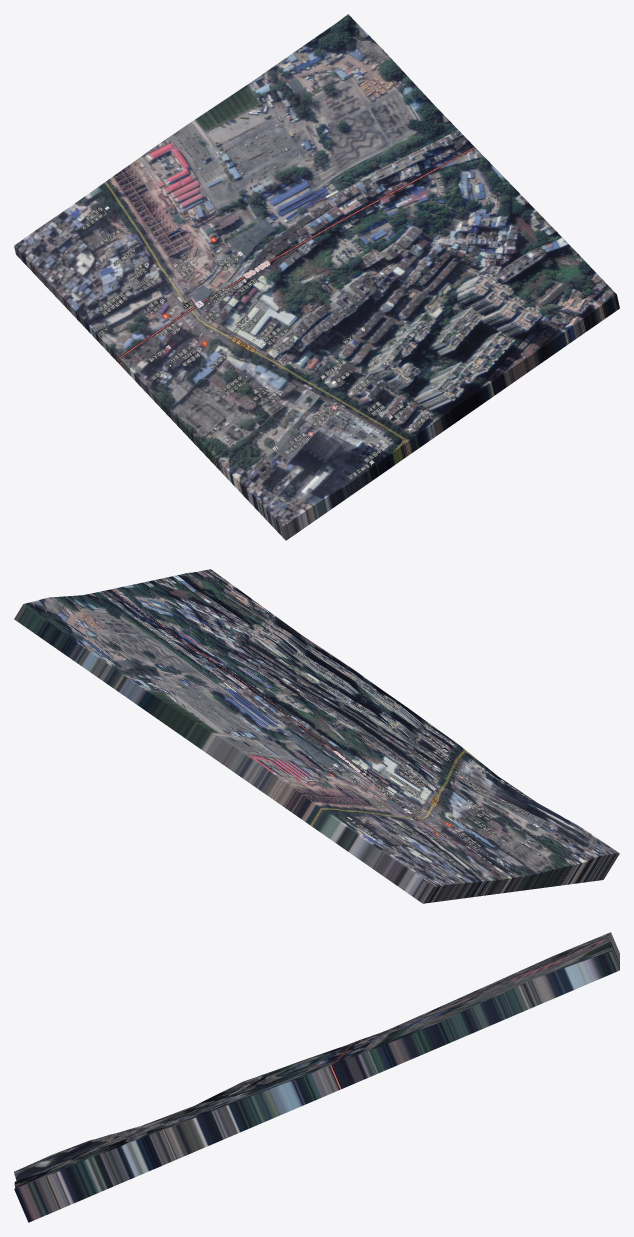
3 renders of one model, top to bottom at view 1: azimuth 30°, elevation 25°; view 2: azimuth 150°, elevation 25°; view 3: azimuth 270°, elevation 25°, orthographic. The views are drawn at different scales.
Parts seen in each view (by area): view 1: 0_11_29; view 2: 0_11_29; view 3: 0_11_29.
Boxes of the visible parts, x1,y1,x2,y2 form: 0_11_29: (14,14,619,540); 0_11_29: (14,569,619,903); 0_11_29: (14,932,619,1222).
Bounding box in the file's own units: 600 × 445 × 555.
Materials: 1 (1 with a texture image).
